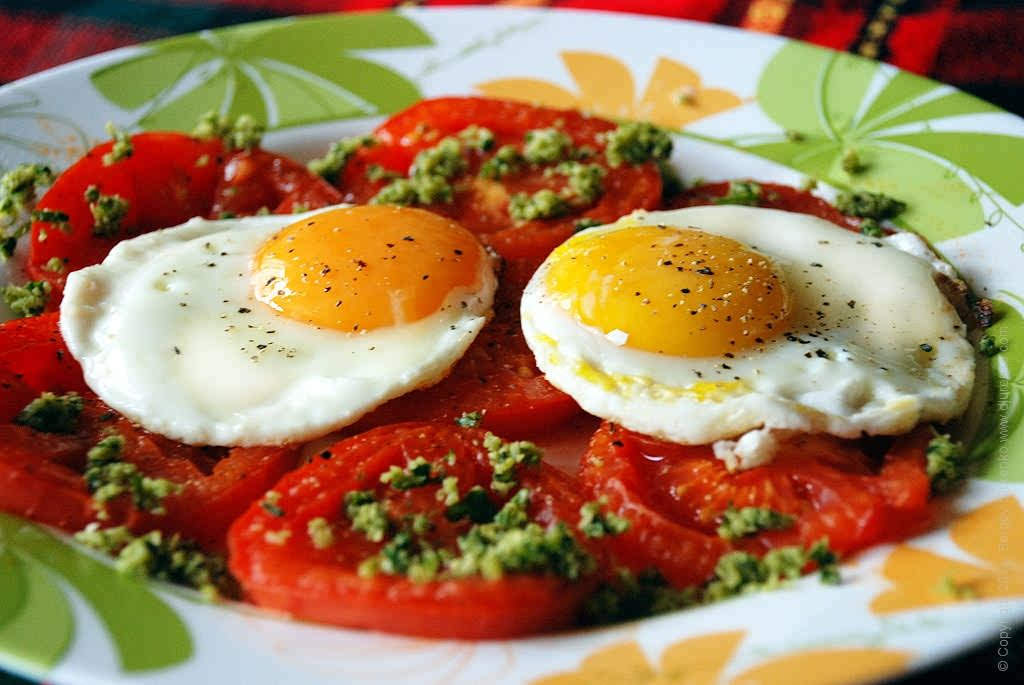fried egg: (532, 226, 968, 447), (99, 203, 486, 426)
